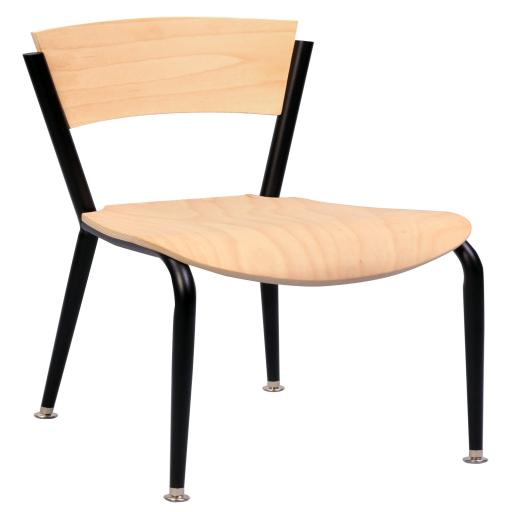chair: (10, 13, 491, 502)
